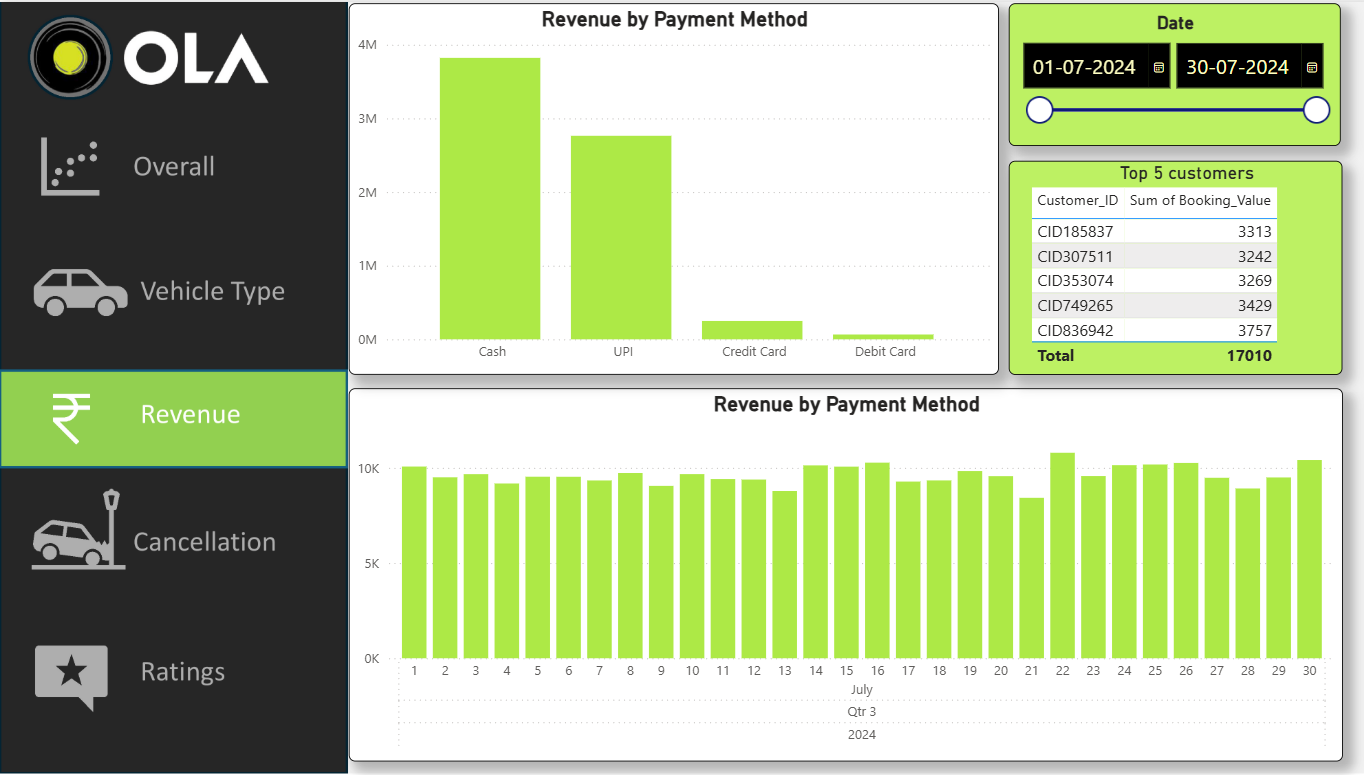

Layout of this report page (visuals, bound fields, positions):
{"tool":"powerbi","page":{"name":"Revenue","canvas":[1280,720],"ordinal":2},"visuals":[{"type":"actionButton","box":[0,578.5,323.3,94.1],"z":0},{"type":"actionButton","box":[0,110,323.3,94.1],"z":1},{"type":"actionButton","box":[0,223.4,323.3,94.1],"z":2},{"type":"actionButton","box":[0,451.4,323.3,94.1],"z":3},{"type":"columnChart","title":"Revenue by Payment Method","fields":{"Y":["Sum(booking.Ride_Distance)"],"Category":["booking.Date.Variation.Date Hierarchy.Year","booking.Date.Variation.Date Hierarchy.Quarter","booking.Date.Variation.Date Hierarchy.Month","booking.Date.Variation.Date Hierarchy.Day"]},"box":[323.8,359.5,924.9,347.2],"z":4},{"type":"columnChart","title":"Revenue by Payment Method","fields":{"Category":["booking.Payment_Method"],"Y":["Sum(booking.Booking_Value)"]},"box":[323.8,1.4,605.1,345.8],"z":5},{"type":"slicer","title":"Date","fields":{"Values":["booking.Date"]},"box":[938.6,1.4,308.7,133.1],"z":6},{"type":"tableEx","title":"Top 5 customers","fields":{"Values":["booking.Customer_ID","Sum(booking.Booking_Value)"]},"box":[938.6,148.2,310.1,199],"z":7}]}

Visuals, with their boxes in screenshot pixels (x1, y1, x2, y2), scaled from the page's 1280x720 canvas onto the 1364x775 screenshot:
actionButton: {"left": 0, "top": 623, "right": 345, "bottom": 724}
actionButton: {"left": 0, "top": 118, "right": 345, "bottom": 220}
actionButton: {"left": 0, "top": 240, "right": 345, "bottom": 342}
actionButton: {"left": 0, "top": 486, "right": 345, "bottom": 587}
"Revenue by Payment Method" columnChart: {"left": 345, "top": 387, "right": 1331, "bottom": 761}
"Revenue by Payment Method" columnChart: {"left": 345, "top": 2, "right": 990, "bottom": 374}
"Date" slicer: {"left": 1000, "top": 2, "right": 1329, "bottom": 145}
"Top 5 customers" tableEx: {"left": 1000, "top": 160, "right": 1331, "bottom": 374}
